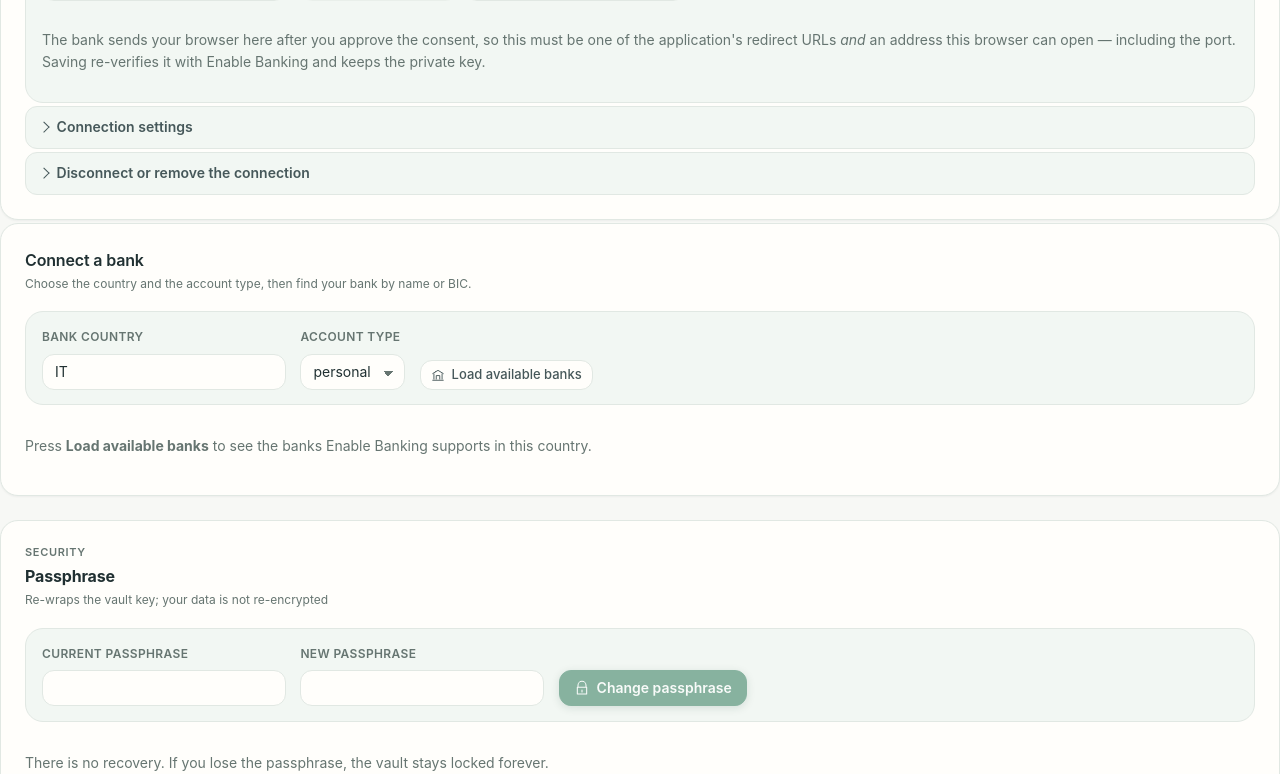
Test: Enable Banking in Settings › filters a long bank list instead of printing all of it
(page scrolled)
Click the button "Load available banks": (506, 375) [420,360,593,390]
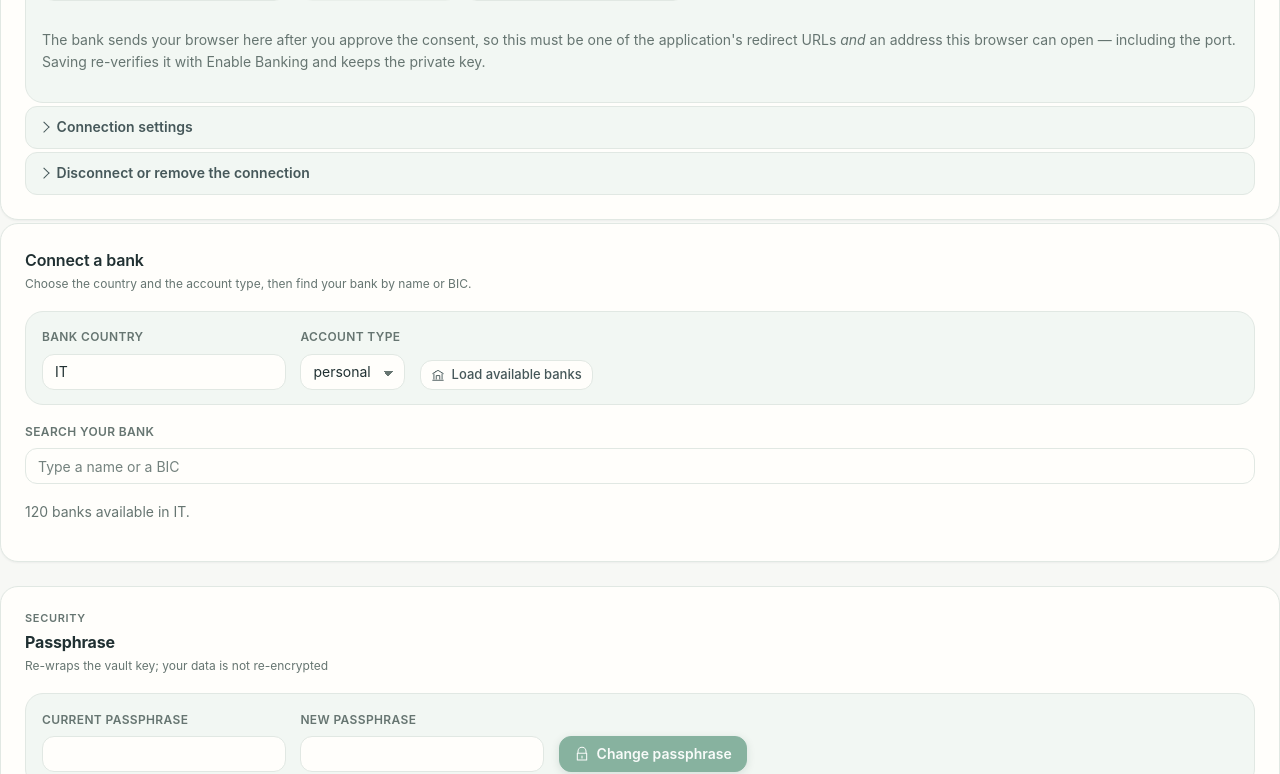
In the dropdown labelled "Search your bank": (640, 466) [25,448,1255,484], type "Bank 11"
(page scrolled)
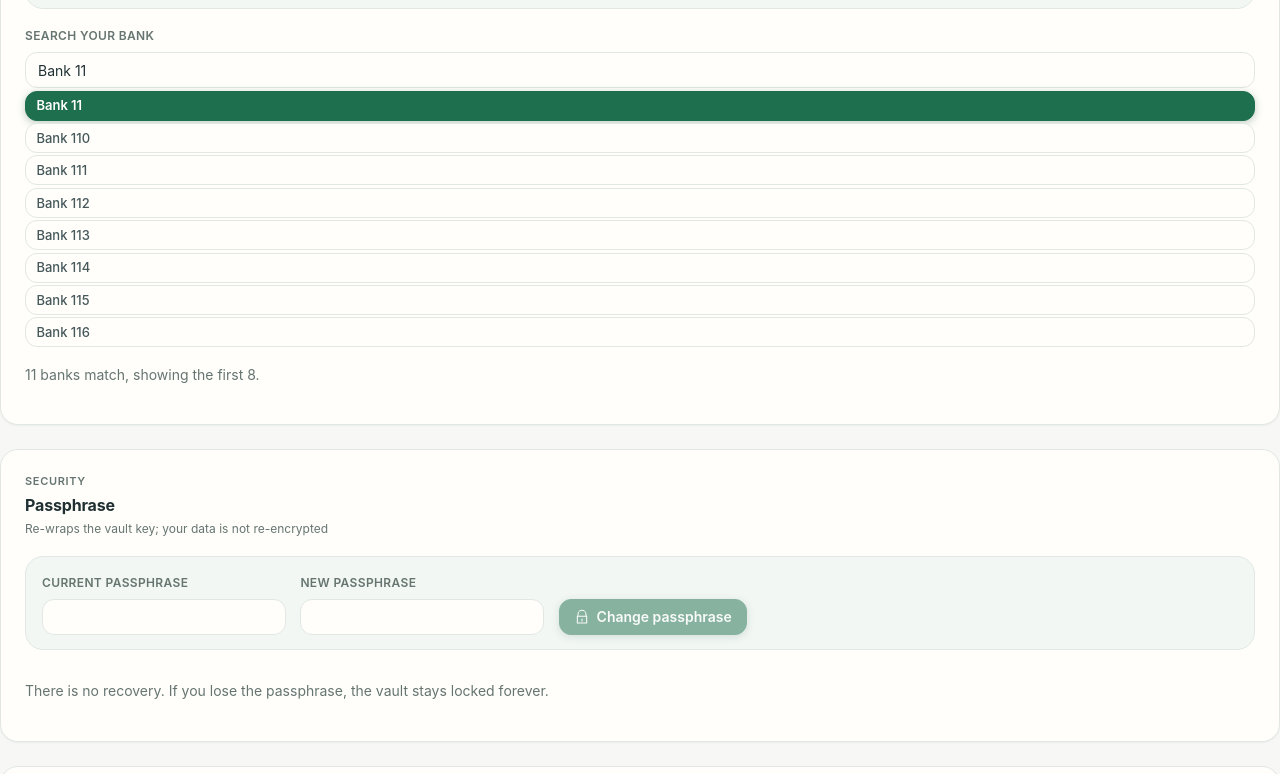
Result: the option "Bank 11" is shown at [25,91,1255,121]
Result: the text "11 banks match, showing the first 8." is shown at [25,366,260,383]
